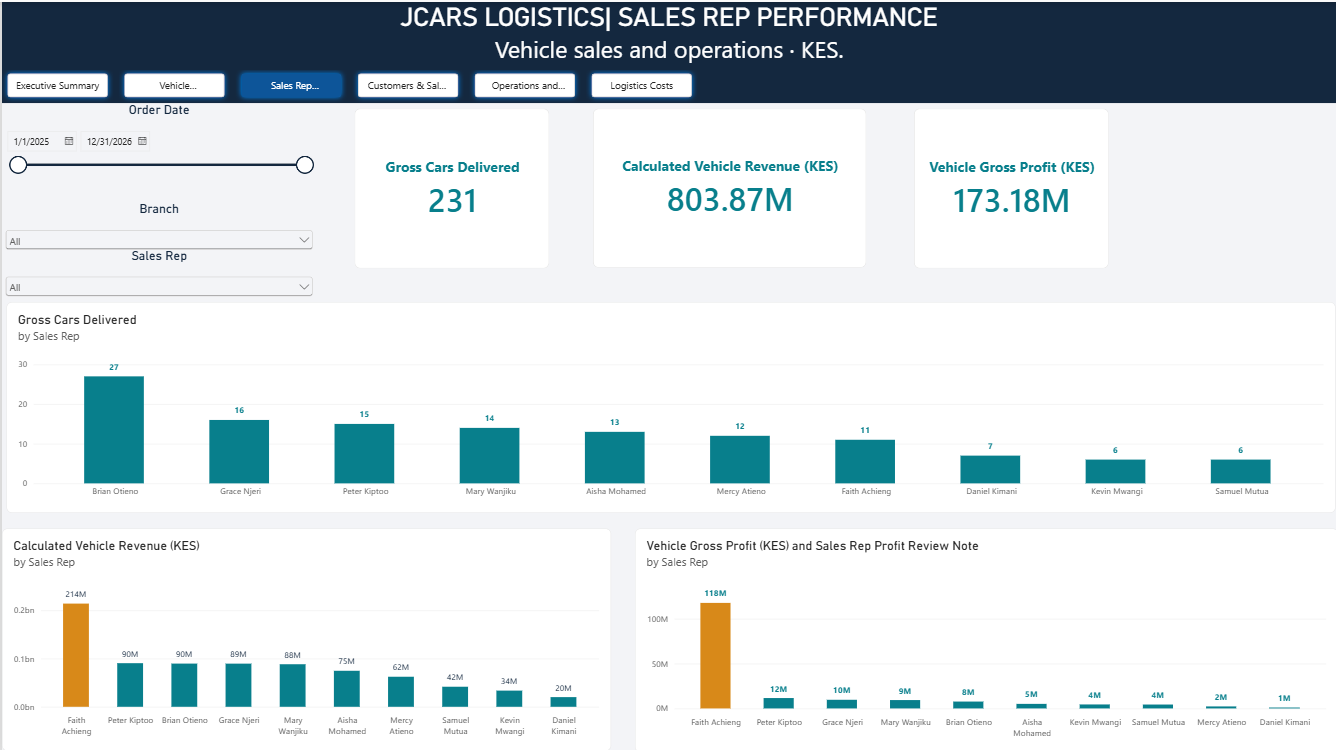

The page's visual inventory and layout, read from the dashboard file:
{"tool":"powerbi","page":{"name":"Sales Rep Performance","canvas":[1920,1080],"ordinal":2},"visuals":[{"type":"shape","box":[0,0,1919.3,145.4],"z":0},{"type":"textbox","title":"JCARS LOGISTICS| SALES REP PERFORMANCE","box":[0,0,1919.3,95.4],"z":1000},{"type":"cardVisual","fields":{"Data":["Fact_Sales.Gross Cars Delivered"]},"box":[507,154.2,280,230],"z":2000},{"type":"cardVisual","fields":{"Data":["Fact_Sales.Calculated Vehicle Revenue (KES)"]},"box":[850.3,153.9,393.2,229.7],"z":3000},{"type":"cardVisual","fields":{"Data":["Fact_Sales.Vehicle Gross Profit (KES)"]},"box":[1312.1,153.9,280,230],"z":4000},{"type":"clusteredColumnChart","fields":{"Category":["DimSalesRep.Sales Rep"],"Y":["Fact_Sales.Calculated Vehicle Revenue (KES)"]},"box":[0,757.9,876.3,319.7],"z":5000},{"type":"clusteredColumnChart","fields":{"Category":["DimSalesRep.Sales Rep"],"Y":["Fact_Sales.Vehicle Gross Profit (KES)"]},"box":[909.5,757.9,1011.3,322.1],"z":6000},{"type":"slicer","title":"Order Date ","fields":{"Values":["DimDate.Date"]},"box":[0,145.4,452,145.4],"z":7000},{"type":"slicer","title":"Branch","fields":{"Values":["DimBranch.Branch"]},"box":[0,286.2,452,72.7],"z":8000},{"type":"slicer","title":"Sales Rep","fields":{"Values":["DimSalesRep.Sales Rep"]},"box":[0,354.3,452,75],"z":9000},{"type":"clusteredColumnChart","fields":{"Category":["DimSalesRep.Sales Rep"],"Y":["Fact_Sales.Gross Cars Delivered"]},"box":[7.1,431.1,1911.3,303.2],"z":10000},{"type":"pageNavigator","box":[0,94.9,1000,50],"z":10001}]}

Visuals, with their boxes in screenshot pixels (x1, y1, x2, y2), scaled from the page's 1920x1080 canvas onto the 1336x750 screenshot:
shape: select_region(0, 0, 1335, 101)
"JCARS LOGISTICS| SALES REP PERFORMANCE" textbox: select_region(0, 0, 1335, 66)
cardVisual - Fact_Sales.Gross Cars Delivered: select_region(353, 107, 548, 267)
cardVisual - Fact_Sales.Calculated Vehicle Revenue (KES): select_region(592, 107, 865, 266)
cardVisual - Fact_Sales.Vehicle Gross Profit (KES): select_region(913, 107, 1108, 267)
clusteredColumnChart - DimSalesRep.Sales Rep x Fact_Sales.Calculated Vehicle Revenue (KES): select_region(0, 526, 610, 748)
clusteredColumnChart - DimSalesRep.Sales Rep x Fact_Sales.Vehicle Gross Profit (KES): select_region(633, 526, 1335, 749)
"Order Date " slicer: select_region(0, 101, 315, 202)
"Branch" slicer: select_region(0, 199, 315, 249)
"Sales Rep" slicer: select_region(0, 246, 315, 298)
clusteredColumnChart - DimSalesRep.Sales Rep x Fact_Sales.Gross Cars Delivered: select_region(5, 299, 1335, 510)
pageNavigator: select_region(0, 66, 696, 101)
